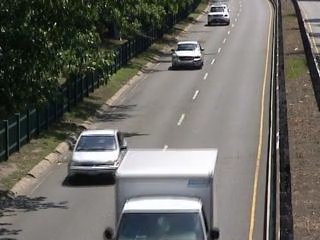car: (68, 128, 132, 177), (167, 39, 209, 74), (203, 3, 235, 30)
truck: (104, 146, 221, 240)
